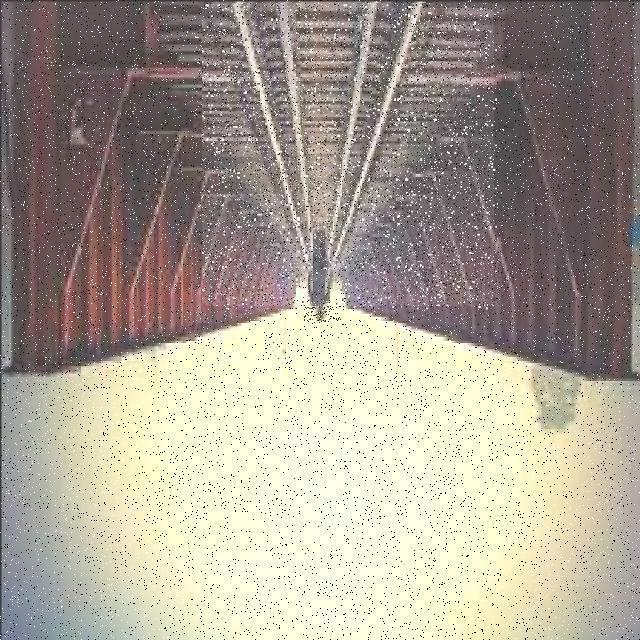rail: (204, 4, 495, 307)
